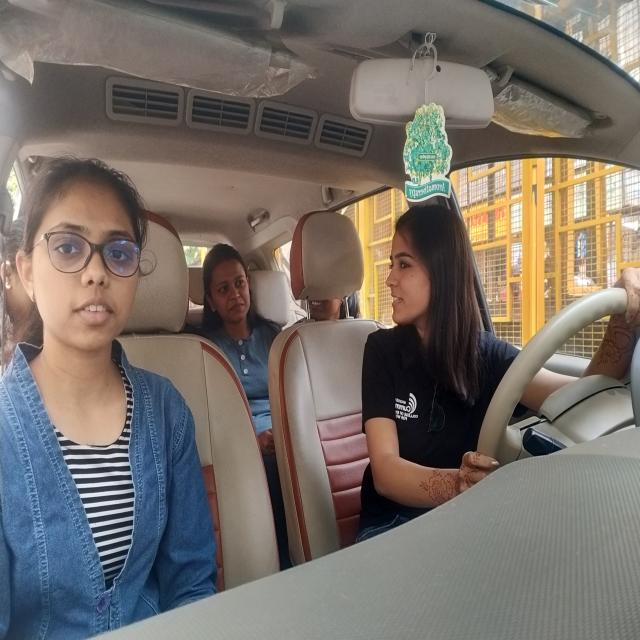LeftRight: (368, 200, 484, 358)
person: (8, 150, 150, 362), (202, 231, 260, 343)
